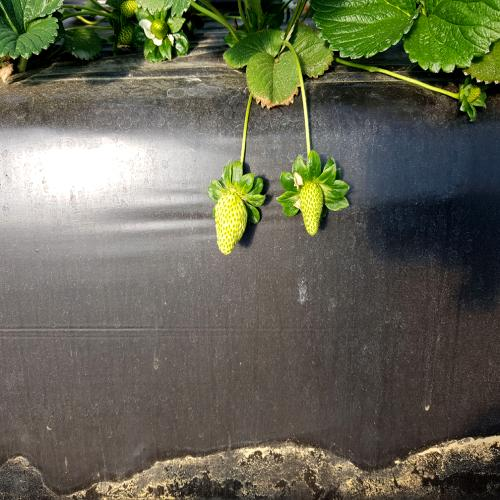unripe: (214, 192, 252, 256), (299, 178, 327, 242)
